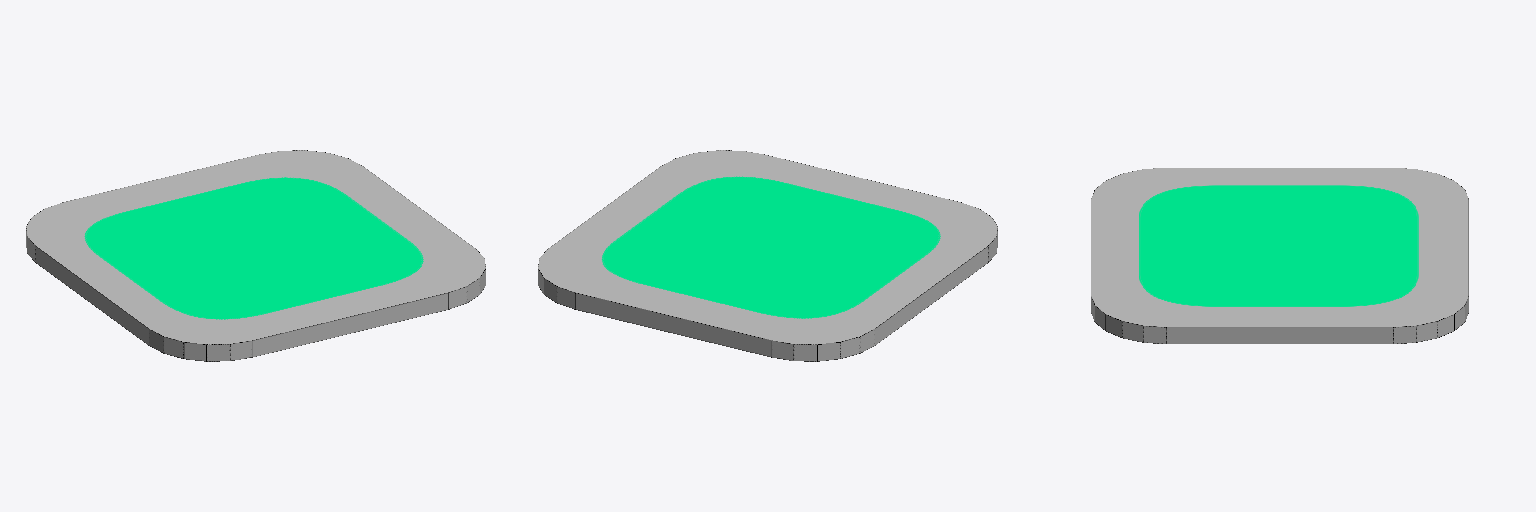
3 views of the same model, side by side, from view 1: azimuth 30°, elevation 25°; view 2: azimuth 150°, elevation 25°; view 3: azimuth 270°, elevation 25° (orthographic).
Visible parts, largest first — view 1: 立方体.001; view 2: 立方体.001; view 3: 立方体.001.
Part boxes in pixels (left/top/right/bottom): 立方体.001: left=26, top=150, right=485, bottom=361; 立方体.001: left=538, top=150, right=997, bottom=361; 立方体.001: left=1091, top=168, right=1468, bottom=343.
Size of the model in its own units: 7.63 by 0.3814 by 7.63.
1 materials, 1 textured.